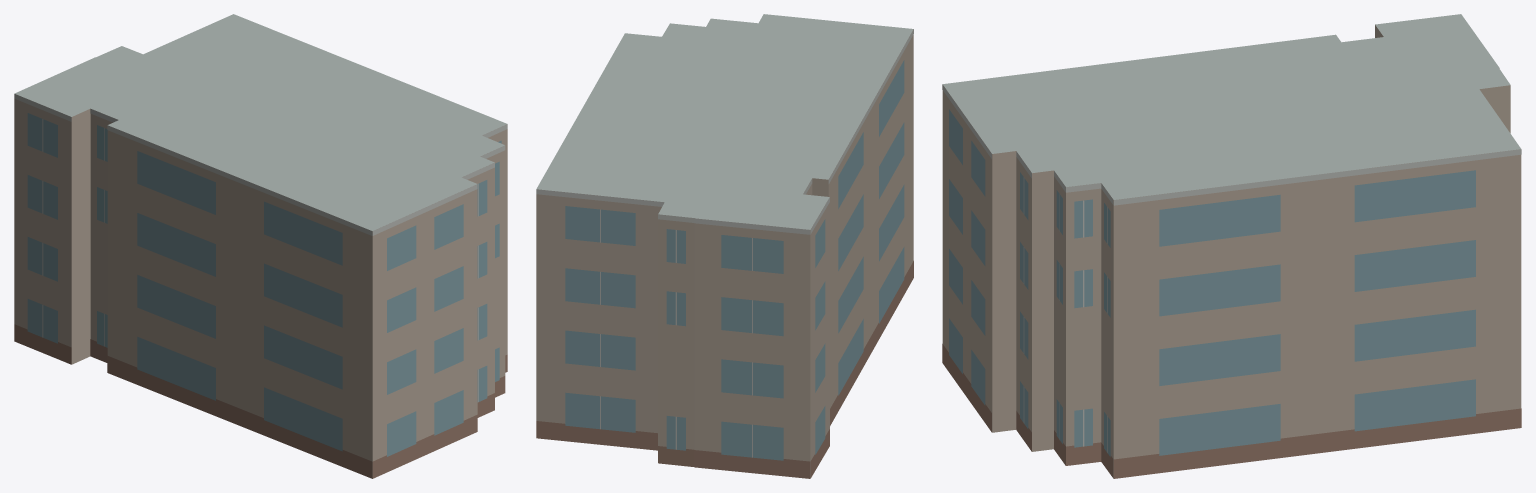
Rendered from survey-upis-32936240.glb.
3 renders of one model, left to right at view 1: azimuth 30°, elevation 25°; view 2: azimuth 150°, elevation 25°; view 3: azimuth 270°, elevation 25°, orthographic. The views are drawn at different scales.
Parts seen in each view (by area): view 1: survey-upis-32936240.tmp; view 2: survey-upis-32936240.tmp; view 3: survey-upis-32936240.tmp.
Boxes of the visible parts, <box> form: survey-upis-32936240.tmp: <box>14,14,507,478</box>; survey-upis-32936240.tmp: <box>536,14,913,478</box>; survey-upis-32936240.tmp: <box>942,14,1521,478</box>.
Size of the model in its own units: 17.48 by 12.2 by 22.97.
